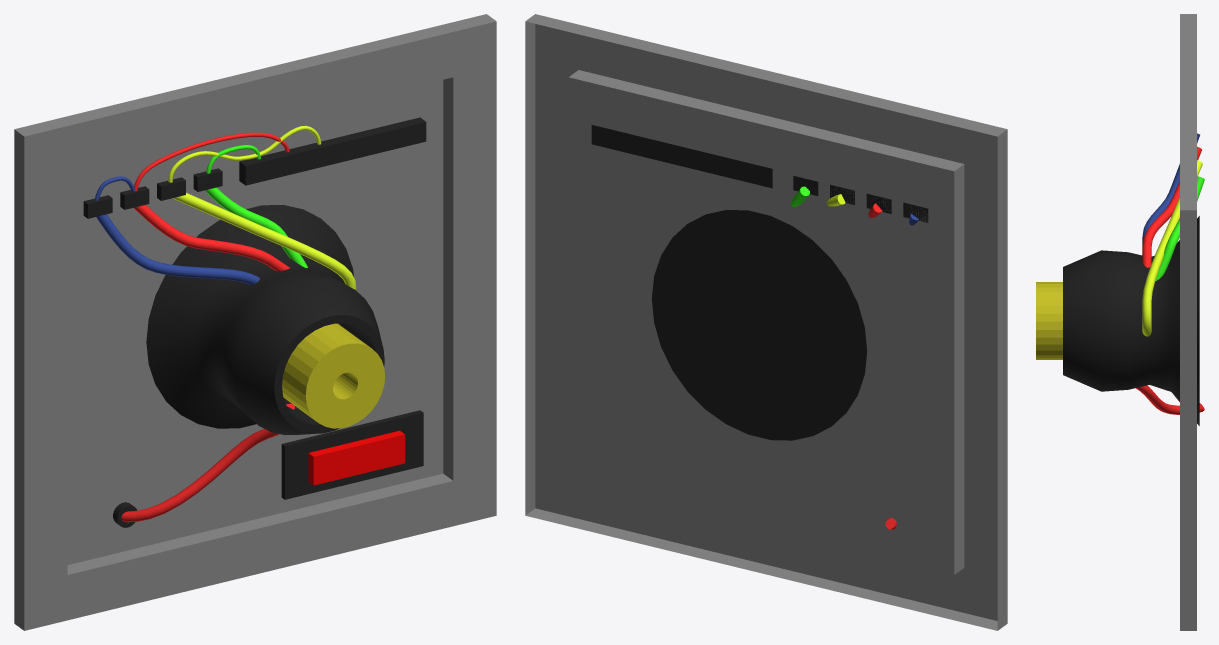
Rendered from LAZER-ERKEK.fbx.
3 renders of one model, left to right at view 1: azimuth 30°, elevation 25°; view 2: azimuth 150°, elevation 25°; view 3: azimuth 270°, elevation 25°, orthographic. The views are drawn at different scales.
Parts seen in each view (by area): view 1: Plane007, Cylinder001, Box006, Box001, Box007, Line003, Line001, Line005, Line002, Line004, Line007, Line008; view 2: Plane007, Cylinder001, Box001; view 3: Cylinder001, Plane007, Line003, Line002, Line004, Line005, Line001.
Boxes of the visible parts, x1,y1,x2,y2 form: Plane007: (14,14,496,630); Cylinder001: (146,205,385,434); Box006: (281,410,423,499); Box001: (239,117,426,185); Box007: (308,430,405,485); Line003: (173,192,356,289); Line001: (96,214,259,284); Line005: (121,403,294,522); Line002: (133,205,289,271); Line004: (205,187,307,267); Line007: (134,132,289,191); Line008: (168,125,321,182); Plane007: (525,14,1007,630); Cylinder001: (652,210,867,440); Box001: (591,125,772,188); Cylinder001: (1036,216,1199,425); Plane007: (1180,14,1196,630); Line003: (1142,160,1202,336); Line002: (1142,146,1201,267); Line004: (1155,176,1204,281); Line005: (1136,385,1204,414); Line001: (1142,133,1199,245).
Size of the model in its own units: 50 by 50 by 18.19.
